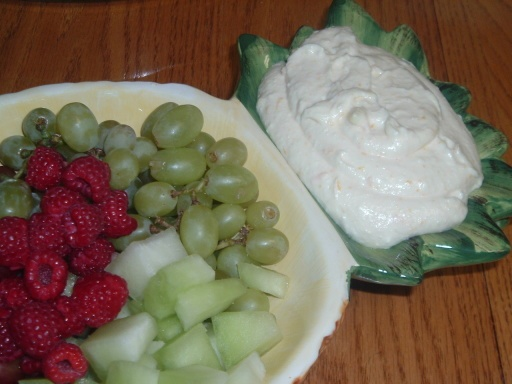background: (0, 60, 232, 230), (183, 14, 387, 148)
